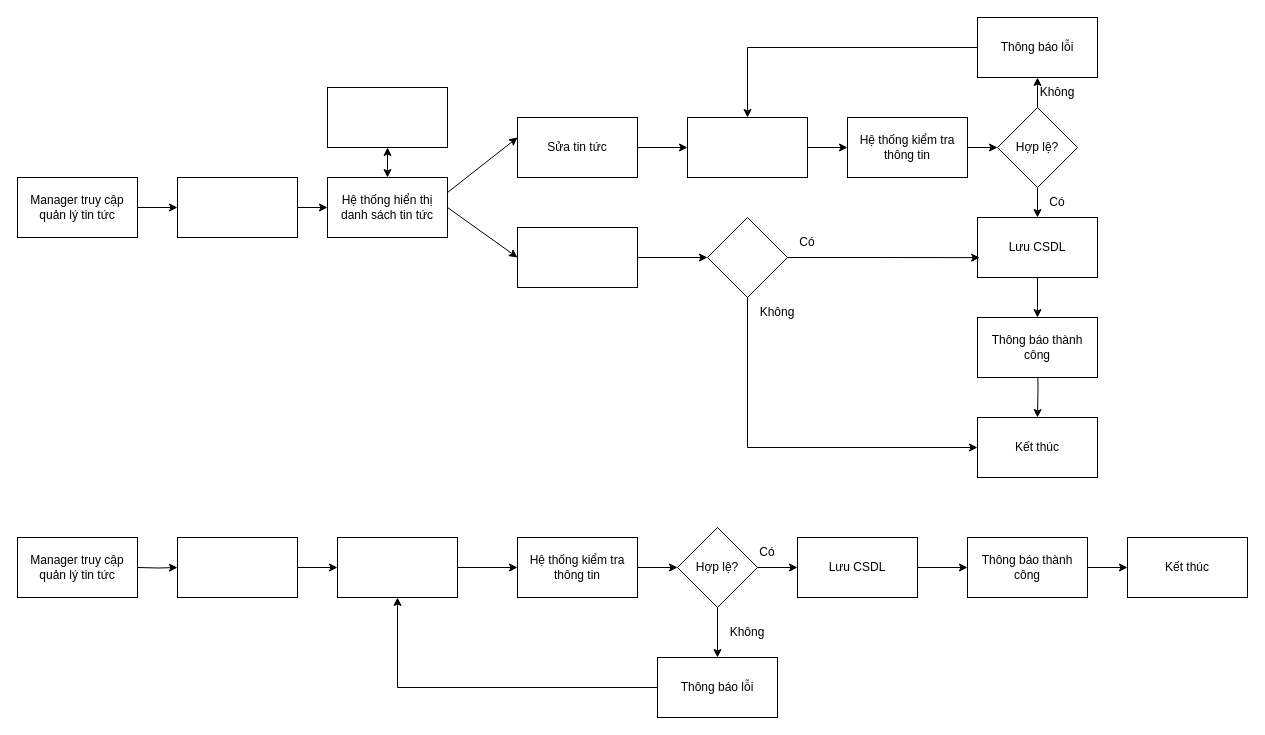
The diagram is 1265 pixels wide and 735 high, and some of its shapes have lost their labels. Here are the shapes that lost their labels. From the top down, the centre of each, then its label:
point (387, 117): Tìm kiếm theo tiêu đề
point (747, 147): Nhập thông tin
point (237, 207): Danh sách tin tức
point (577, 257): Ẩn tin tức
point (747, 257): Xác nhận ẩn?
point (237, 567): Tạo tin tức
point (397, 567): Nhập thông tin tiêu đề, nội dung, chọn chi nhánh
